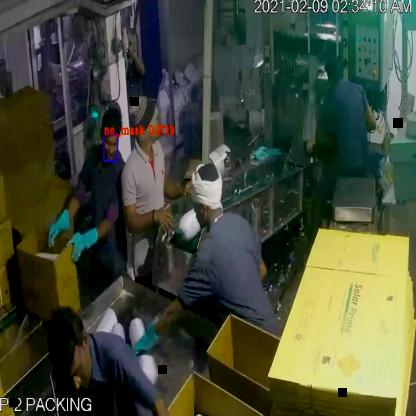glove: (121, 308, 168, 360), (62, 227, 102, 270), (34, 207, 72, 250)
no_glove: (113, 194, 178, 244), (153, 163, 200, 211)
